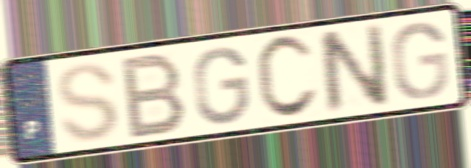B: (120, 49, 190, 142)
C: (252, 32, 321, 123)
G: (389, 19, 452, 103), (191, 44, 252, 128)
N: (314, 20, 392, 118)
S: (54, 61, 122, 146)
